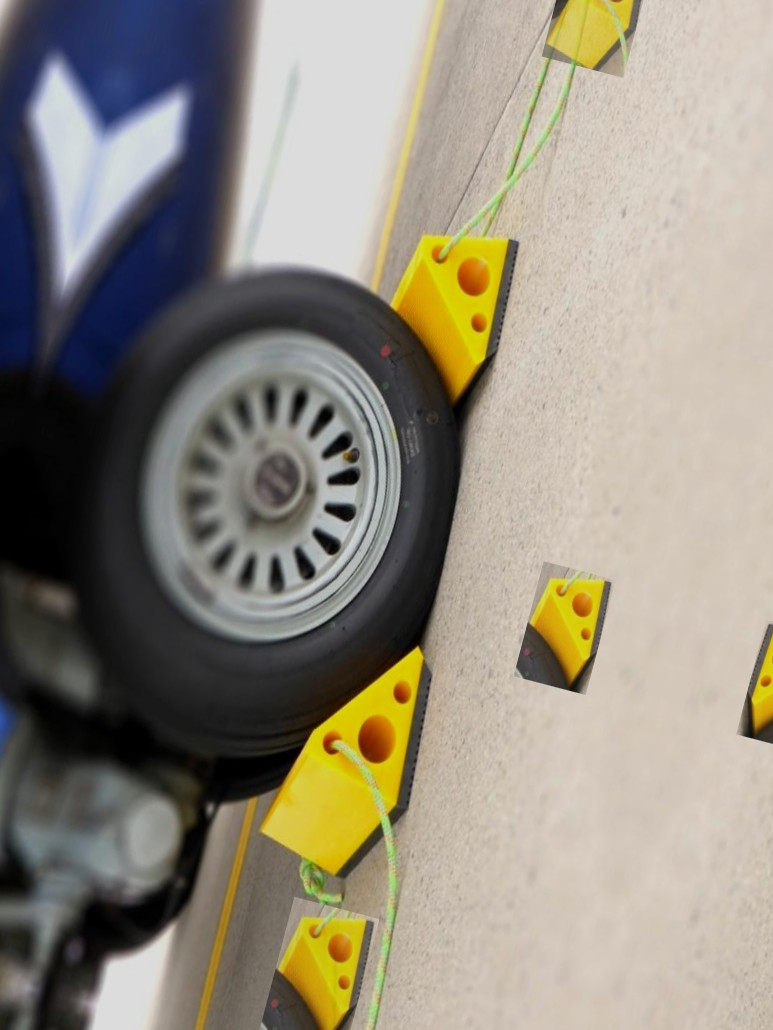chock: (252, 615, 450, 889), (366, 208, 526, 419), (259, 897, 379, 1030), (514, 561, 616, 695), (542, 0, 661, 78), (737, 620, 773, 753)
wheel: (25, 227, 506, 790)
